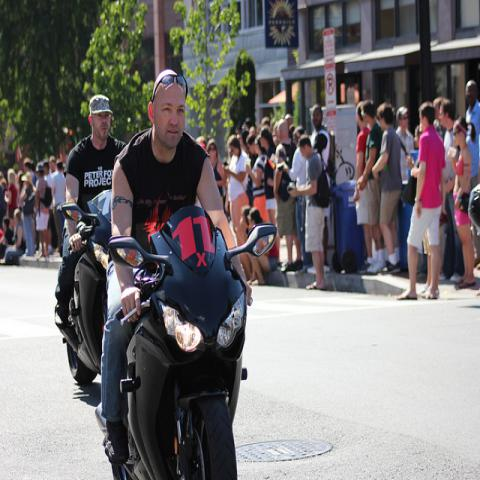motorcycle: (110, 205, 279, 475), (59, 188, 113, 385)
